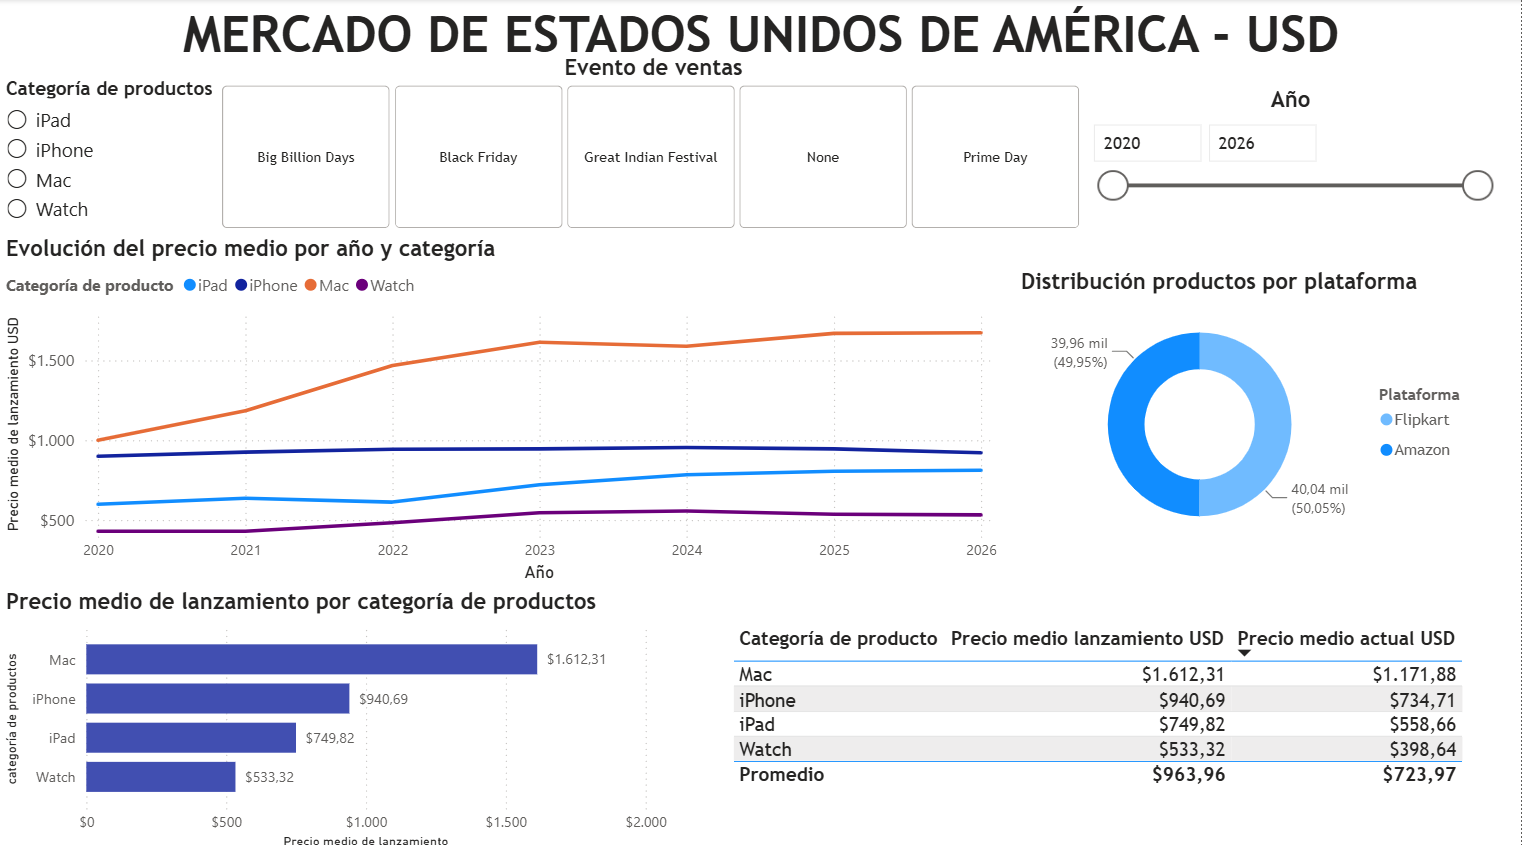

Layout of this report page (visuals, bound fields, positions):
{"tool":"powerbi","page":{"name":"MERCADO EE.UU.","canvas":[1280,720],"ordinal":1},"visuals":[{"type":"lineChart","title":"Evolución del precio medio por año y categoría","fields":{"Category":["apple_products_pricing_2020_202.Date.Variación.Jerarquía de fechas.Año"],"Y":["Avg(apple_products_pricing_2020_202.Launch_Price_USD)"],"Series":["apple_products_pricing_2020_202.Product_Category"]},"box":[0,198.9,843.3,296.7],"z":0},{"type":"slicer","title":"Año","fields":{"Values":["apple_products_pricing_2020_202.Date.Variación.Jerarquía de fechas.Año"]},"box":[907.5,73.8,356.2,117.5],"z":1000},{"type":"textbox","box":[0,0,1280,72.5],"z":2000},{"type":"clusteredBarChart","fields":{"Y":["Avg(apple_products_pricing_2020_202.Launch_Price_USD)"],"Category":["apple_products_pricing_2020_202.Product_Category"]},"box":[0,495,566.2,225],"z":3000},{"type":"donutChart","fields":{"Category":["apple_products_pricing_2020_202.Platform"],"Y":["CountNonNull(apple_products_pricing_2020_202.Product_Category)"]},"box":[853.3,225.6,400,242.2],"z":4000},{"type":"advancedSlicerVisual","fields":{"Values":["apple_products_pricing_2020_202.Sale_Event"]},"box":[162.2,46.7,775.6,152.2],"z":5000},{"type":"tableEx","fields":{"Values":["apple_products_pricing_2020_202.Product_Category","Avg(apple_products_pricing_2020_202.Launch_Price_USD)","Avg(apple_products_pricing_2020_202.Current_Price_USD)"]},"box":[611.2,521.2,621.2,186.2],"z":6000},{"type":"listSlicer","fields":{"Values":["apple_products_pricing_2020_202.Product_Category"]},"box":[0,65,183.8,133.8],"z":7000}]}

Visuals, with their boxes in screenshot pixels (x1, y1, x2, y2), scaled from the page's 1280x720 canvas onto the 1522x847 screenshot:
"Evolución del precio medio por año y categoría" lineChart: 0, 234, 1003, 583
"Año" slicer: 1079, 87, 1503, 225
textbox: 0, 0, 1521, 85
clusteredBarChart - Avg(apple_products_pricing_2020_202.Launch_Price_USD) x apple_products_pricing_2020_202.Product_Category: 0, 582, 673, 846
donutChart - apple_products_pricing_2020_202.Platform x CountNonNull(apple_products_pricing_2020_202.Product_Category): 1015, 265, 1490, 550
advancedSlicerVisual - apple_products_pricing_2020_202.Sale_Event: 193, 55, 1115, 234
tableEx - apple_products_pricing_2020_202.Product_Category x Avg(apple_products_pricing_2020_202.Launch_Price_USD): 727, 613, 1465, 832
listSlicer - apple_products_pricing_2020_202.Product_Category: 0, 76, 219, 234
